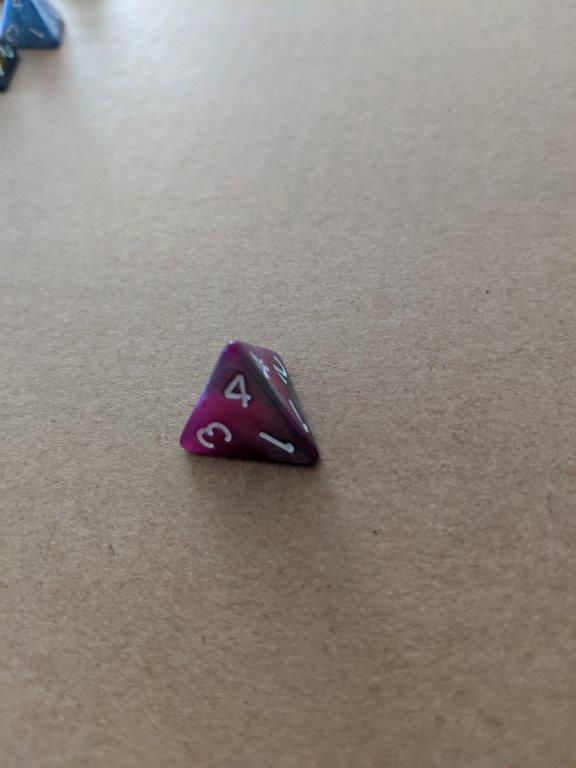d4-4: (176, 339, 321, 467)
